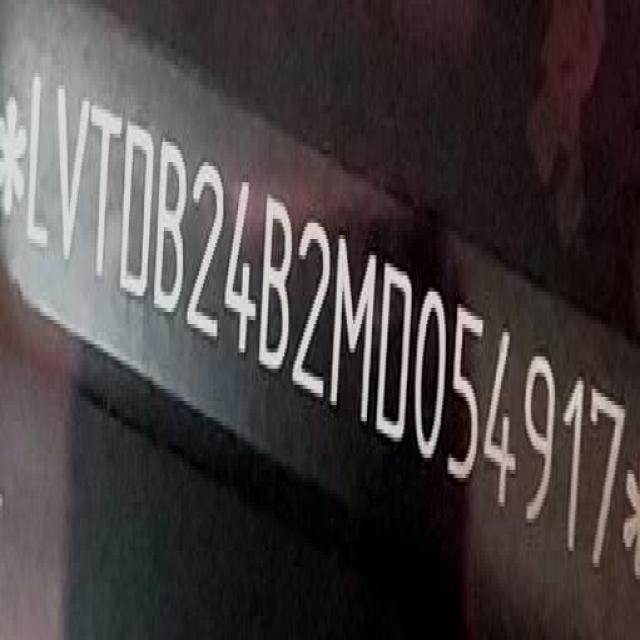0: (415, 280, 447, 468)
1: (561, 360, 585, 556)
2: (296, 198, 331, 404), (190, 152, 222, 350)
4: (484, 320, 517, 520), (227, 167, 256, 367)
5: (451, 293, 483, 489)
7: (592, 379, 626, 573)
9: (521, 342, 561, 534)
B: (261, 184, 291, 383), (154, 137, 184, 326)
D: (381, 251, 415, 453), (122, 116, 154, 306)
L: (28, 67, 52, 260)
M: (337, 220, 376, 428)
T: (92, 97, 122, 290)
V: (56, 82, 91, 278)
